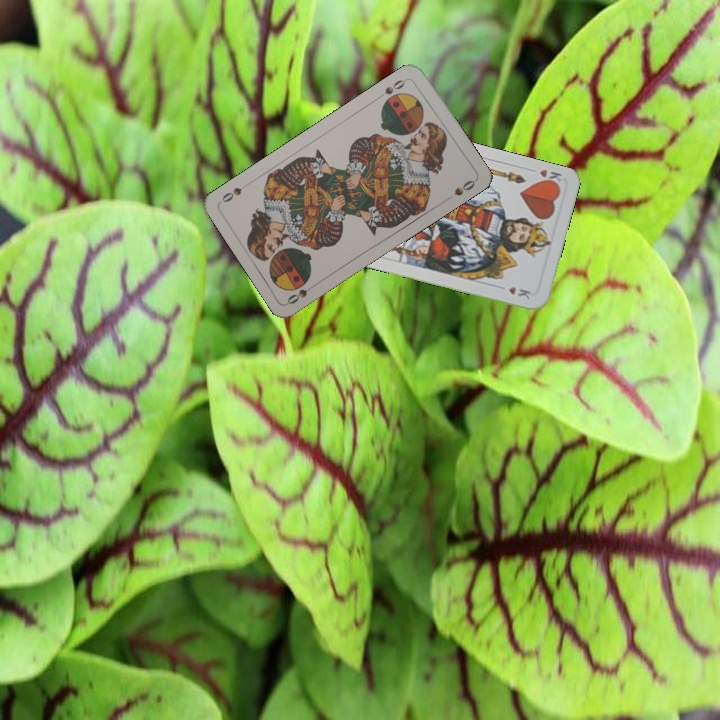HK: (525, 164, 565, 188)
SO: (283, 279, 320, 307), (374, 74, 411, 101)
